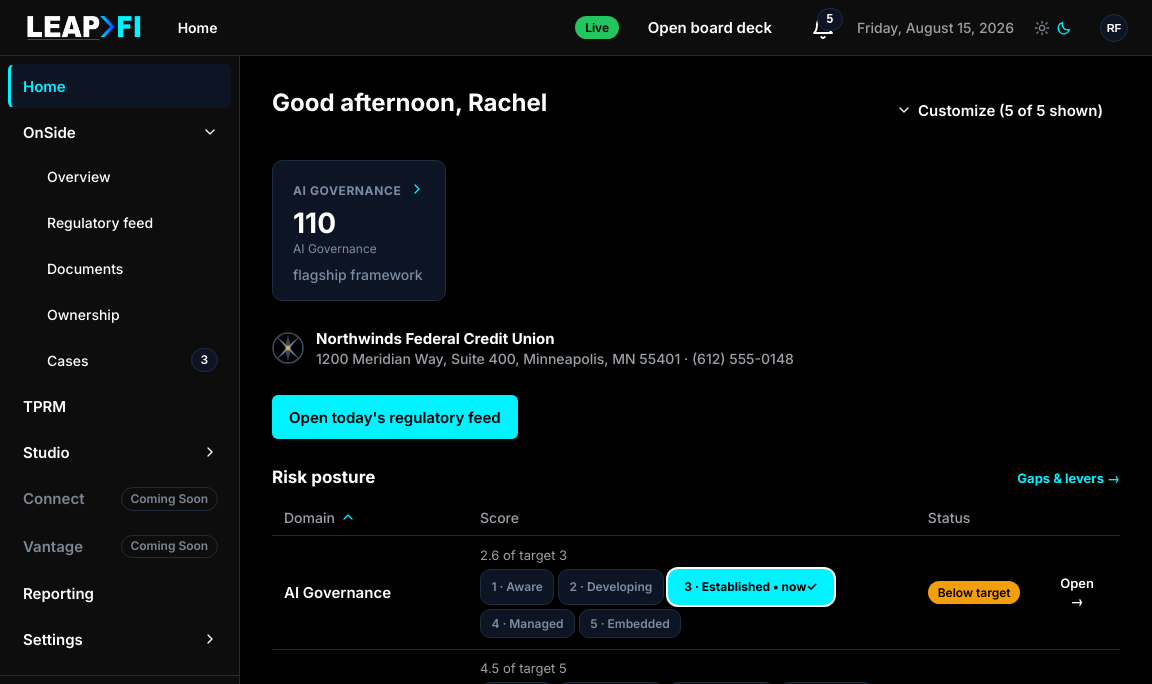
B-dead-interactions-12 — profile menu "Reset demo" row calls the store resetDemo (base 852) › the row renders below the persona items and pressing it restores demo state to the seed
The image size is (1152, 684).
Click the button with aria-label "Rachel Fischer" at x=1114, y=28, box 1092,6 -> 1136,50
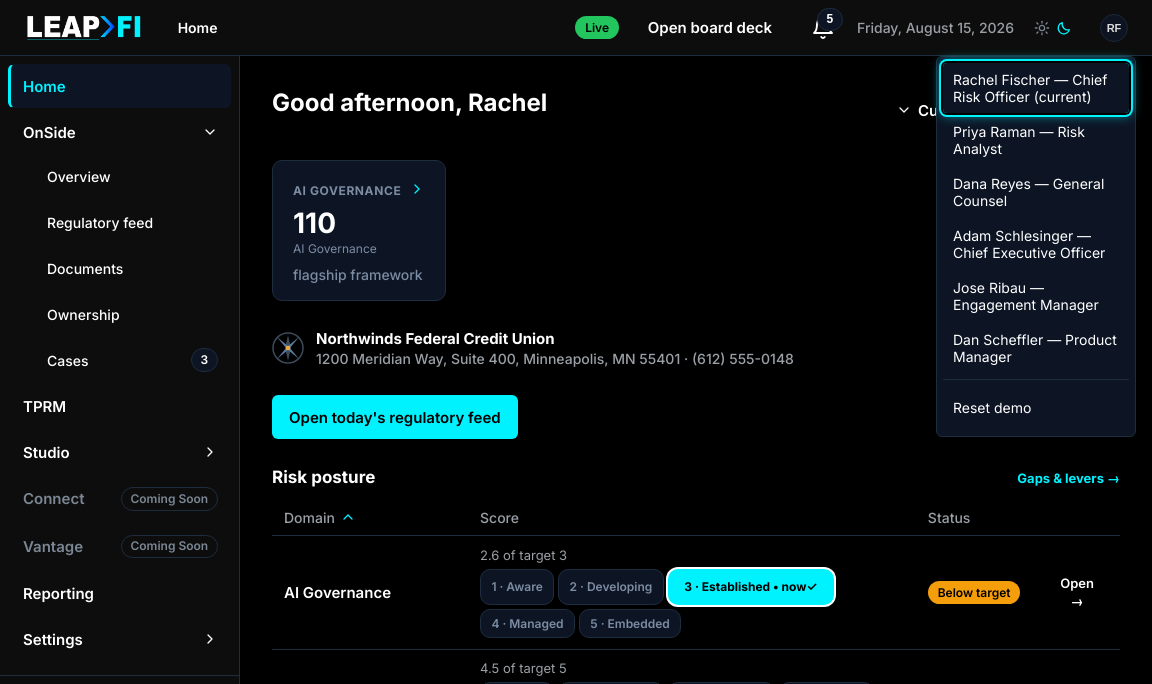
Expected: the menu item "Reset demo" is shown
Click the menu item "Reset demo" at x=1036, y=408, box 943,386 -> 1129,430
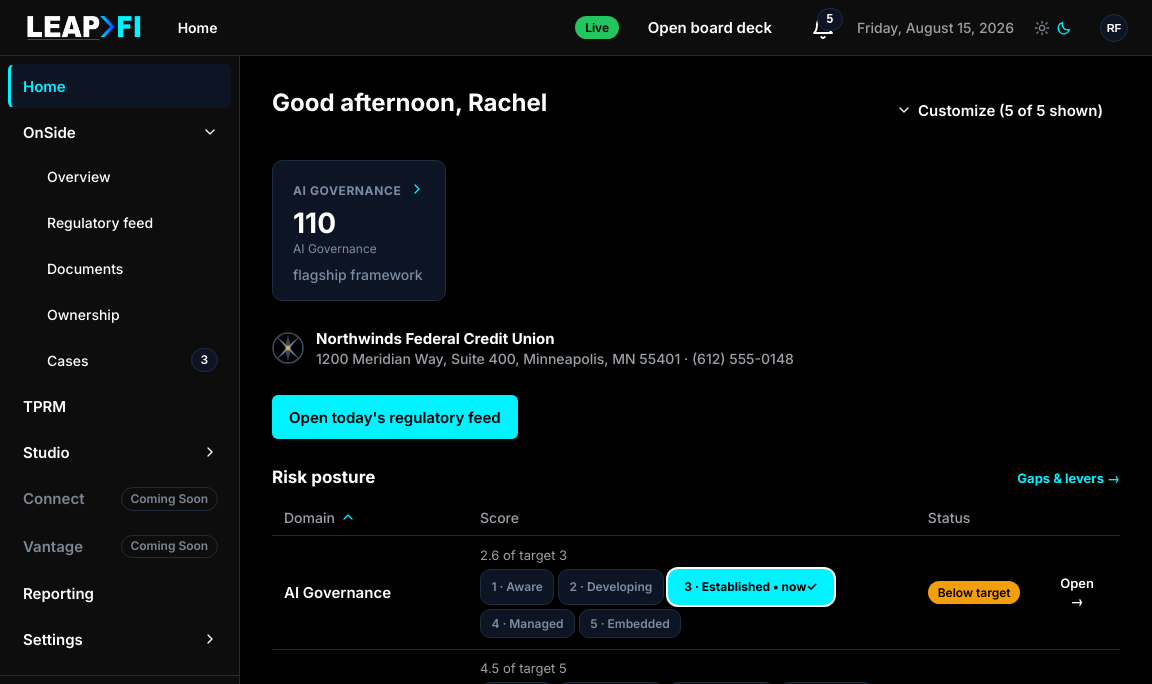
Expected: the menu "Rachel Fischer account menu" is gone
